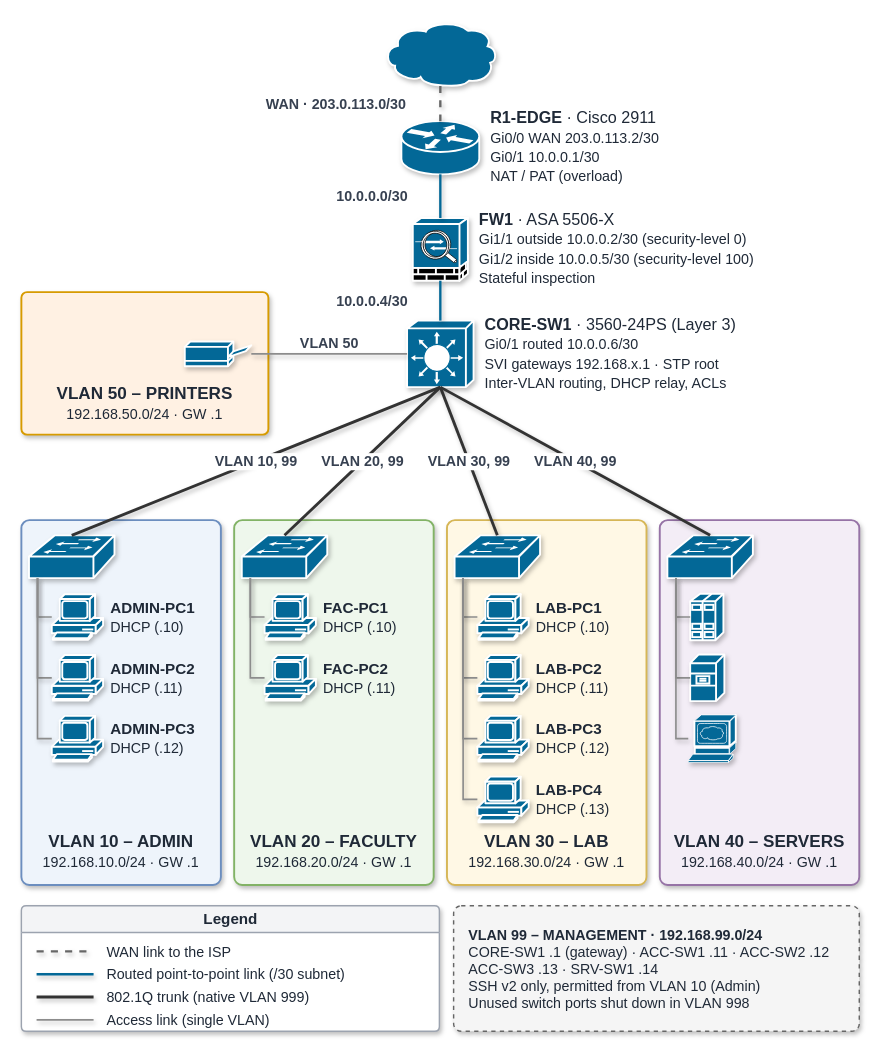
Image size: 882x1055. Some labels were removed from this diagram. Each missing label, with the centre of its shape:
ACC-SW1 Mgmt .99.11: point 72,557
ACC-SW2 Mgmt .99.12: point 285,557
ACC-SW3 Mgmt .99.13: point 497,557
INTERNET / ISP ISP-R 203.0.113.1 · 198.51.100.1 INTERNET-SRV 198.51.100.10: point 441,54
PRN1 192.168.50.10: point 218,354
SRV-DHCP-DNS 192.168.40.10: point 707,618
SRV-FILE 192.168.40.20: point 708,678
SRV-SW1 Mgmt .99.14: point 710,557
SRV-WEB 192.168.40.30: point 712,740
